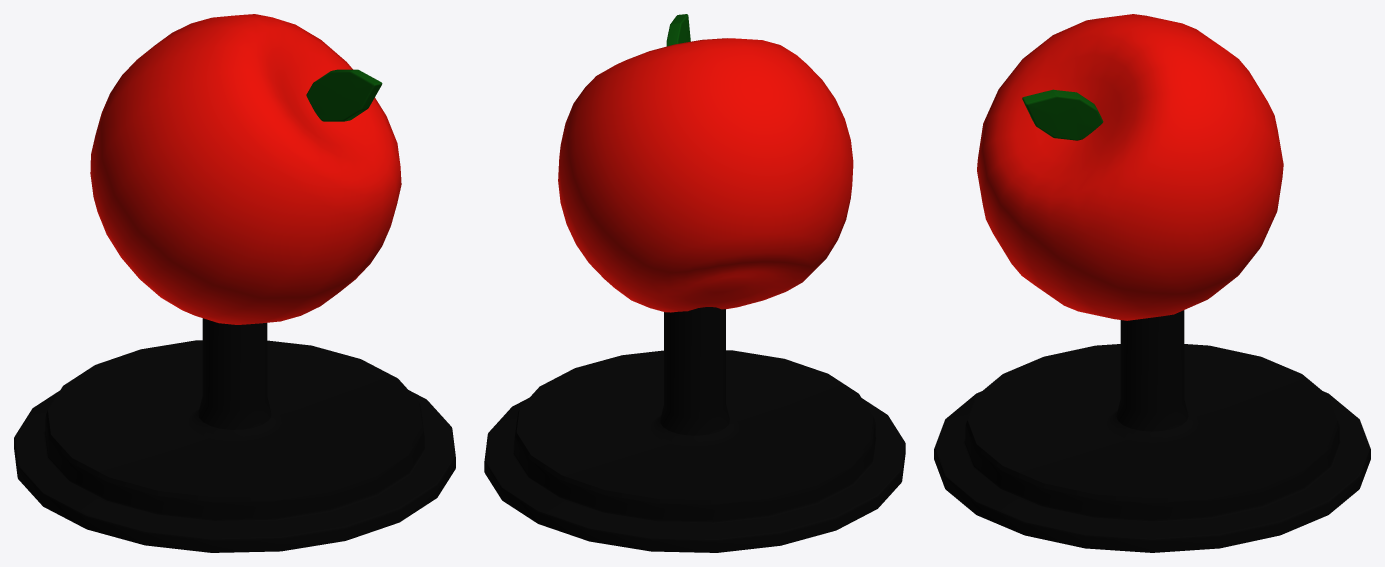
Rendered from Pomme.fbx.
The picture shows the model from 3 angles, left to right: view 1: azimuth 30°, elevation 25°; view 2: azimuth 150°, elevation 25°; view 3: azimuth 270°, elevation 25°; orthographic projection. The views are drawn at different scales.
Visible parts, largest first — view 1: Socle, pomme; view 2: Socle, pomme; view 3: Socle, pomme.
Part boxes in pixels (left/top/right/bottom): Socle: left=14, top=318, right=455, bottom=552; pomme: left=90, top=14, right=401, bottom=324; Socle: left=484, top=307, right=905, bottom=552; pomme: left=558, top=14, right=853, bottom=312; Socle: left=934, top=310, right=1370, bottom=552; pomme: left=977, top=14, right=1283, bottom=320.
Size of the model in its own units: 200 by 218 by 200.
